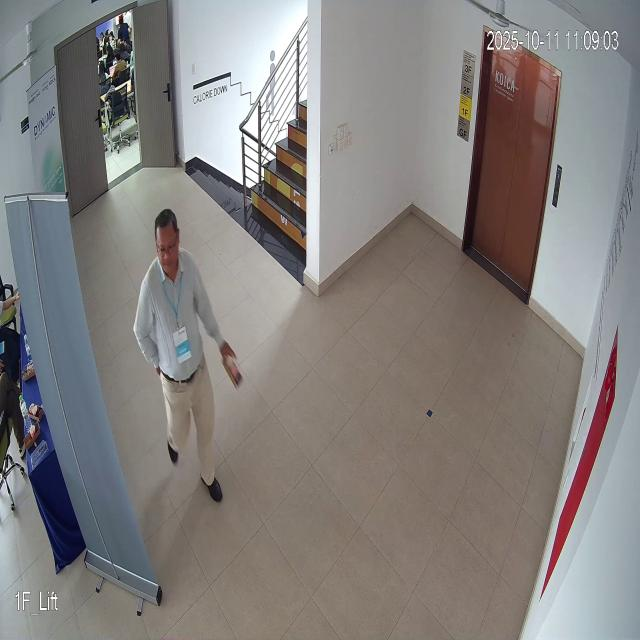face: (146, 198, 193, 286)
